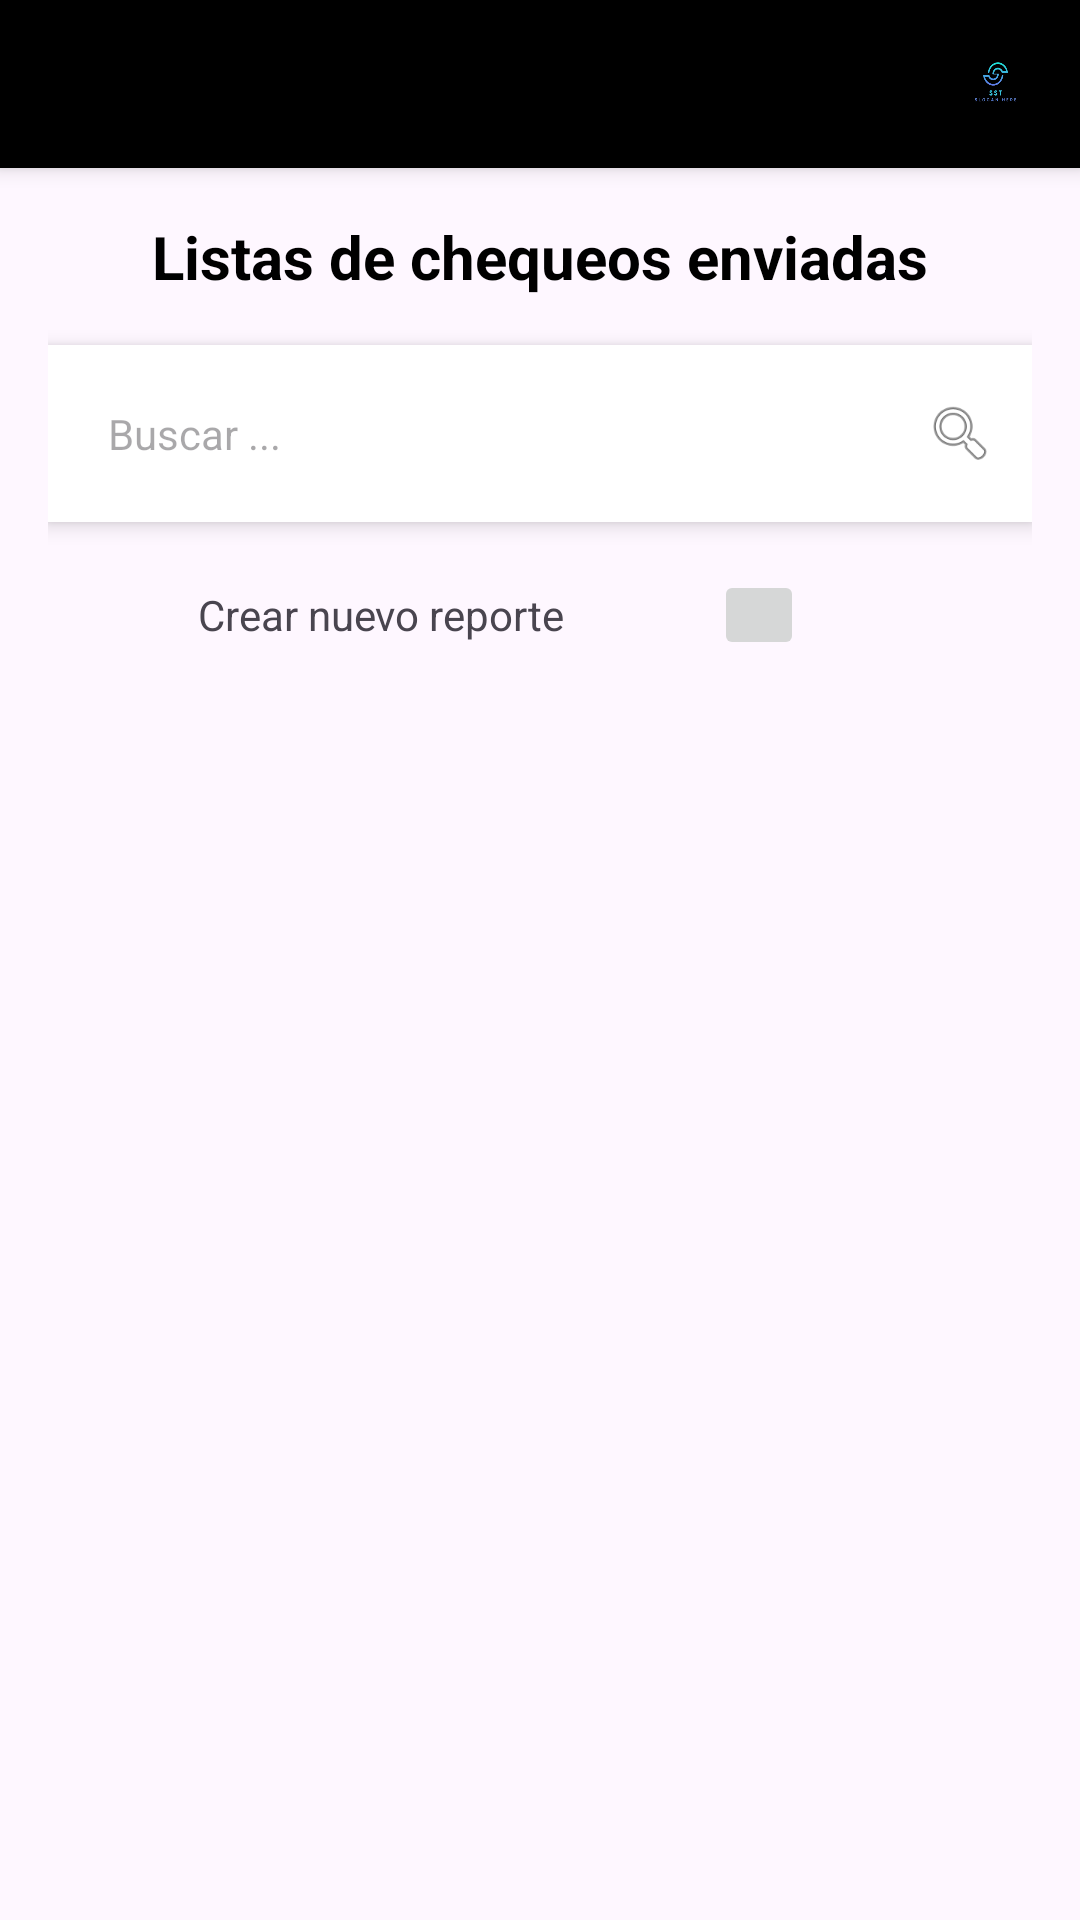

Where to tap for icons on this 1080 x 1920 app screen, as (x,y):
search: (960,433)
